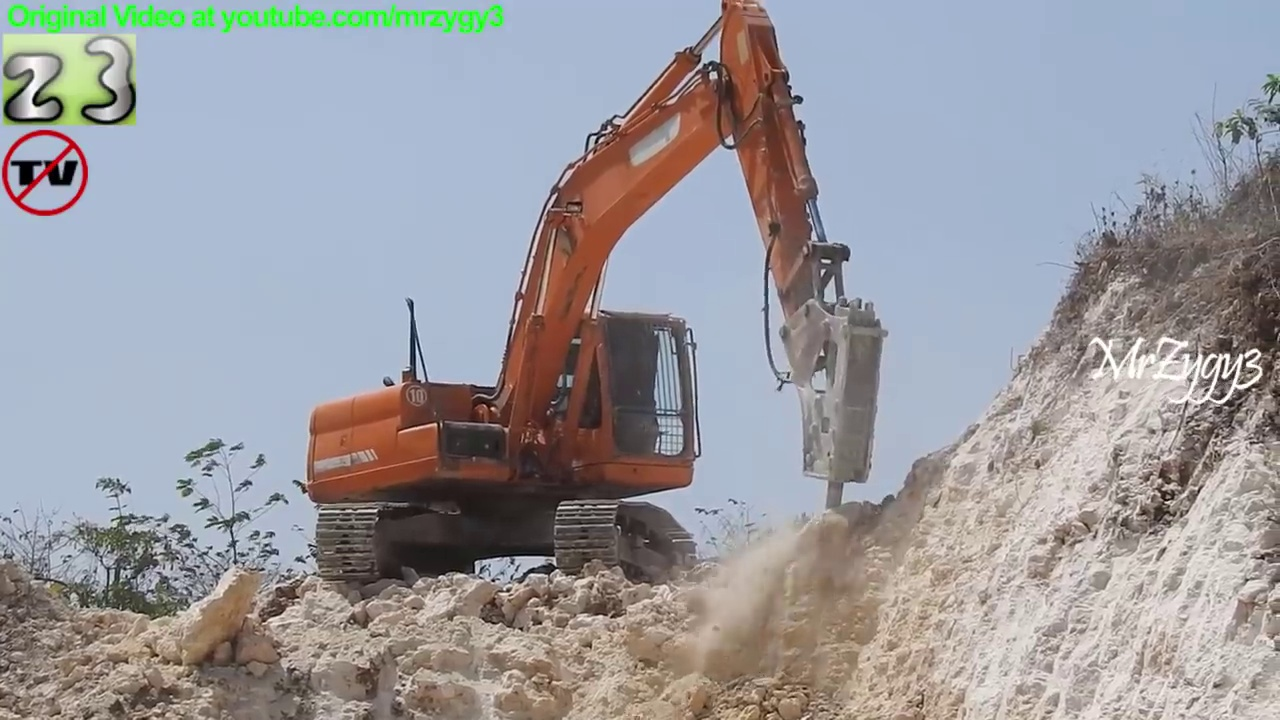excavator breaker: (294, 1, 899, 599)
